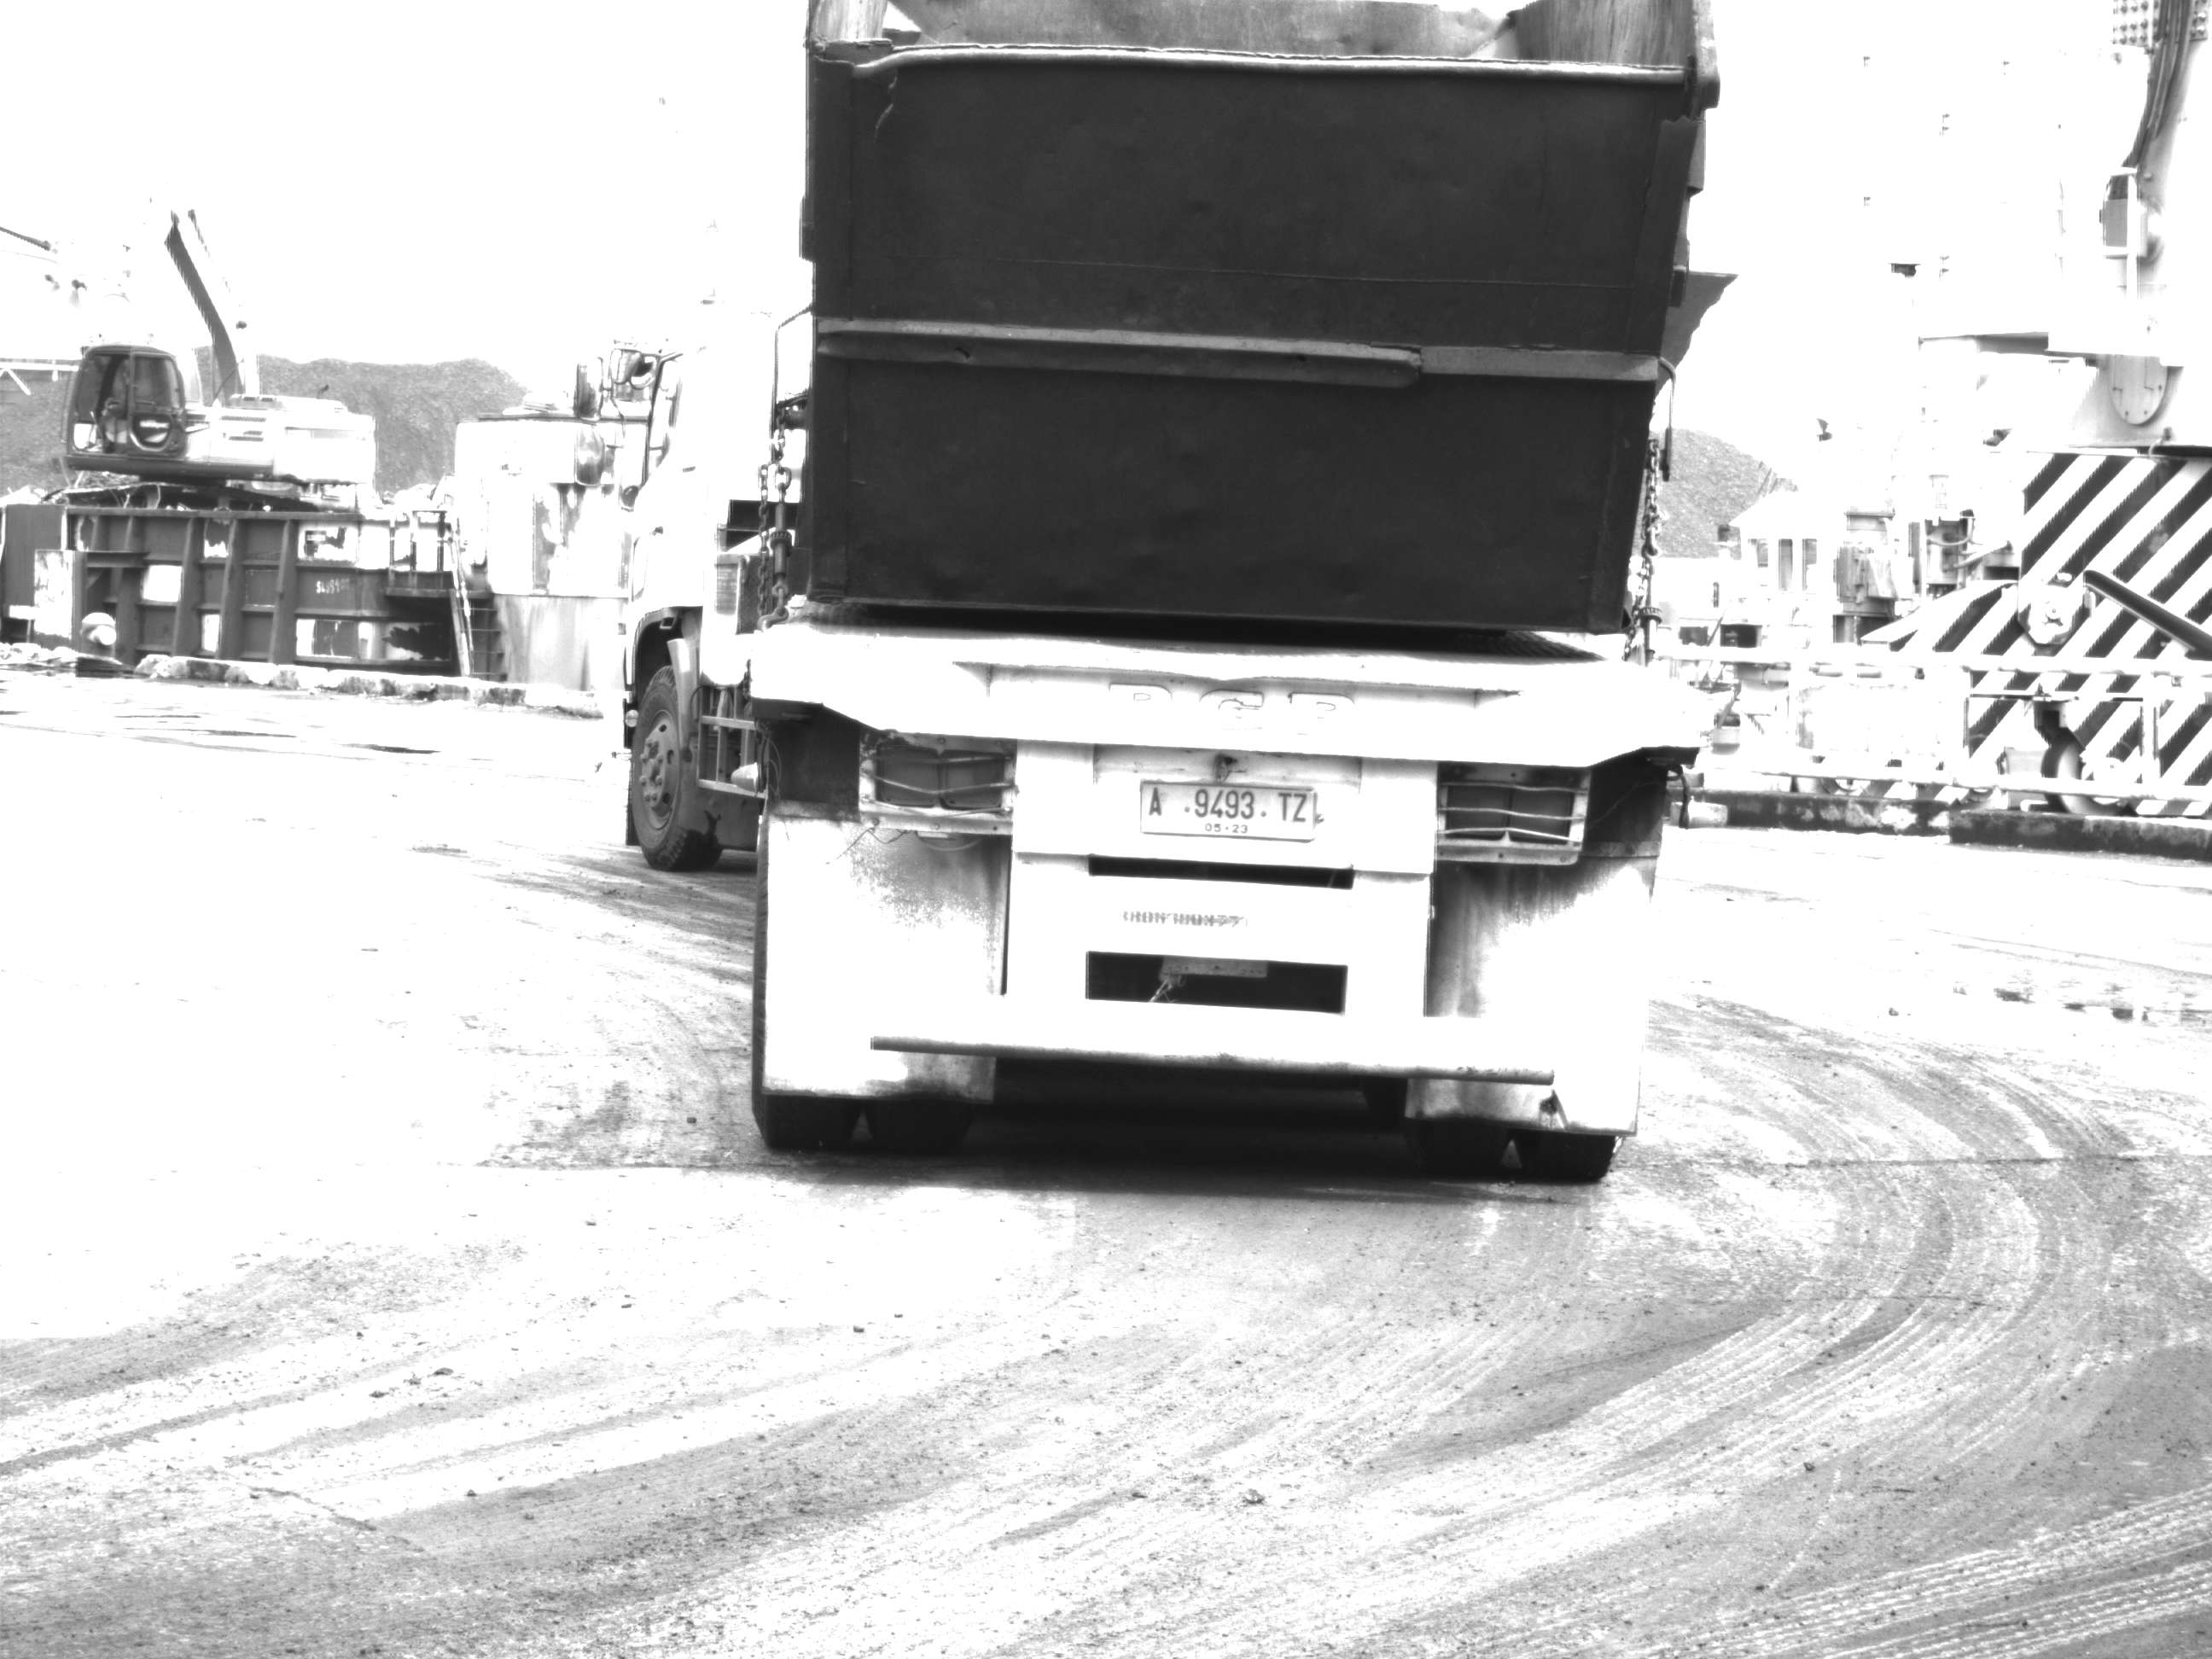day_truck_rear: (738, 585, 1703, 1202)
plate: (1133, 773, 1332, 850)
